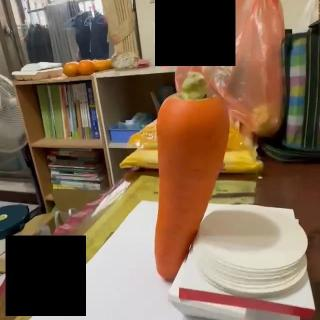carrot: (153, 71, 231, 283)
